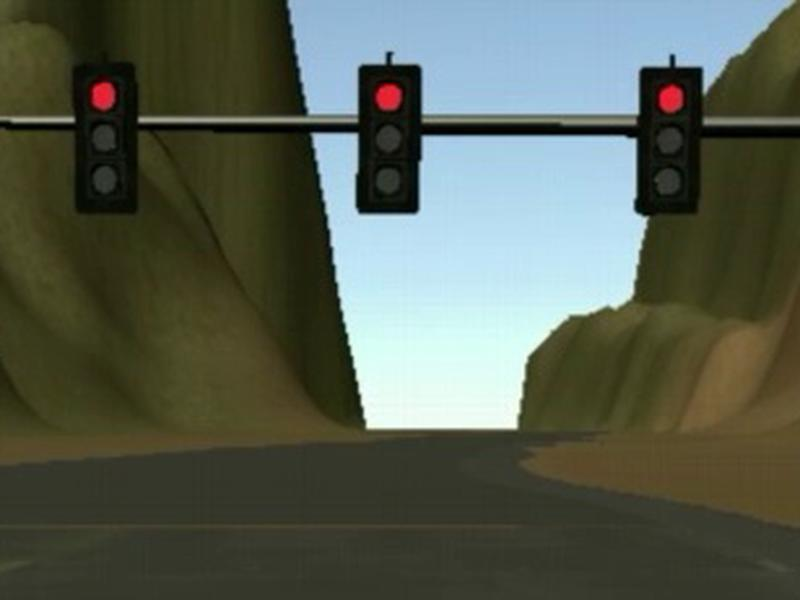Red: (633, 65, 703, 215), (355, 64, 422, 213), (75, 61, 140, 214)
